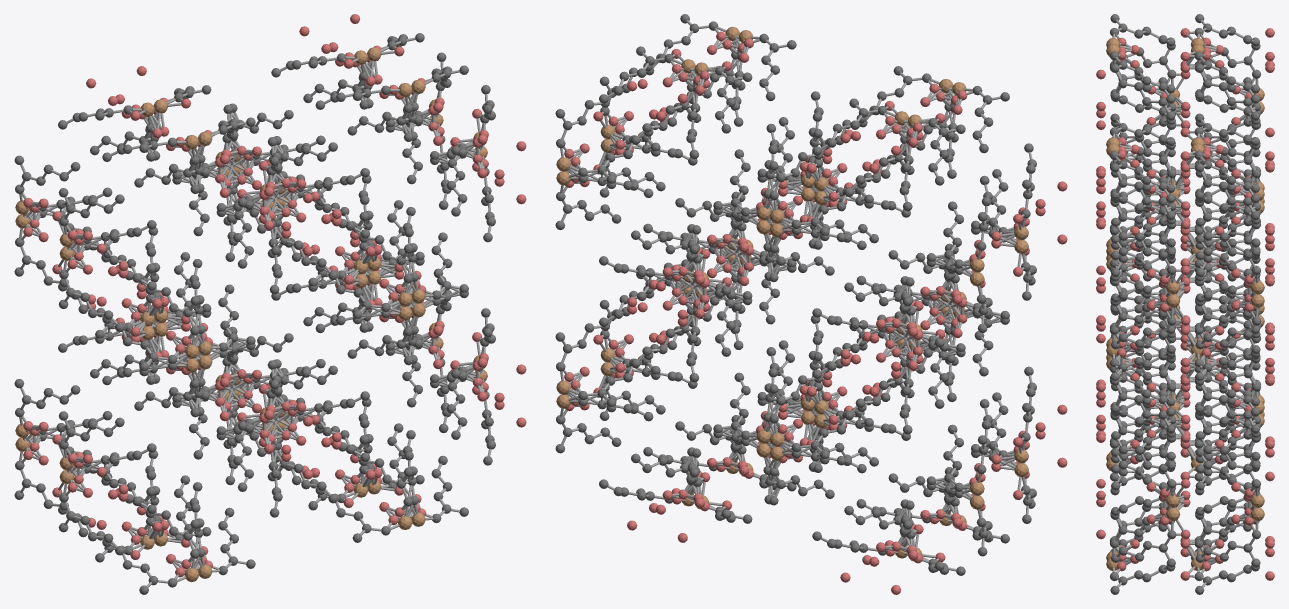
The model's file is 260318wa_z1398288_zcs.glb.
3 views of the same model, side by side, from view 1: azimuth 30°, elevation 25°; view 2: azimuth 150°, elevation 25°; view 3: azimuth 270°, elevation 25° (orthographic). The views are drawn at different scales.
Visible parts, largest first — view 1: atoms_C, bonds, atoms_O, atoms_Cu; view 2: atoms_C, bonds, atoms_O, atoms_Cu; view 3: atoms_C, bonds, atoms_O, atoms_Cu.
Part boxes in pixels (left/top/right/bottom): atoms_C: left=14, top=33, right=495, bottom=594; bonds: left=19, top=37, right=491, bottom=587; atoms_O: left=23, top=14, right=526, bottom=577; atoms_Cu: left=15, top=47, right=487, bottom=582; atoms_C: left=555, top=14, right=1036, bottom=575; bonds: left=560, top=20, right=1032, bottom=571; atoms_O: left=564, top=31, right=1067, bottom=594; atoms_Cu: left=556, top=26, right=1028, bottom=561; atoms_C: left=1110, top=14, right=1260, bottom=594; bonds: left=1112, top=20, right=1258, bottom=587; atoms_O: left=1096, top=28, right=1274, bottom=580; atoms_Cu: left=1106, top=37, right=1264, bottom=570.
Bounding box in the file's own units: 38.64 × 38.64 × 14.53.
